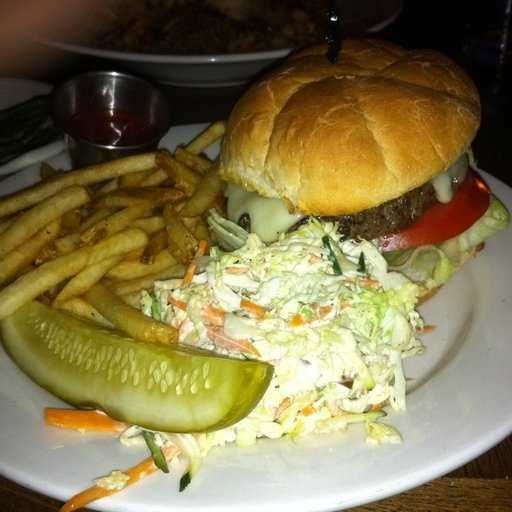hamburger: (226, 34, 483, 303)
